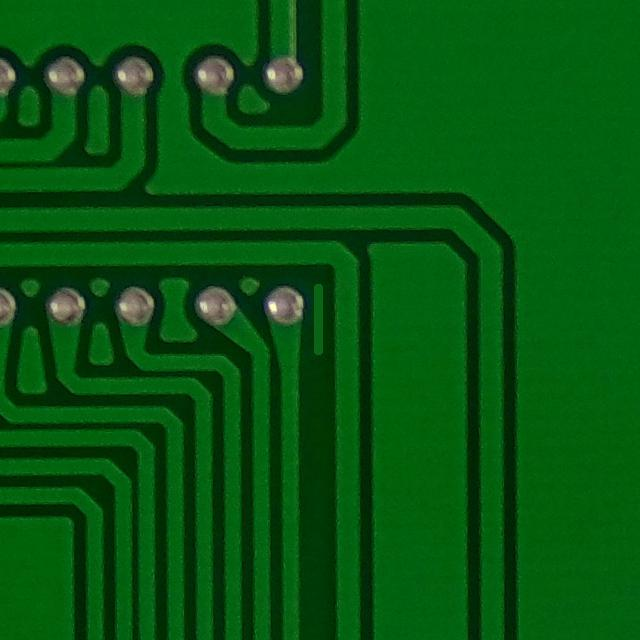spurious_copper: (299, 270, 341, 371)
